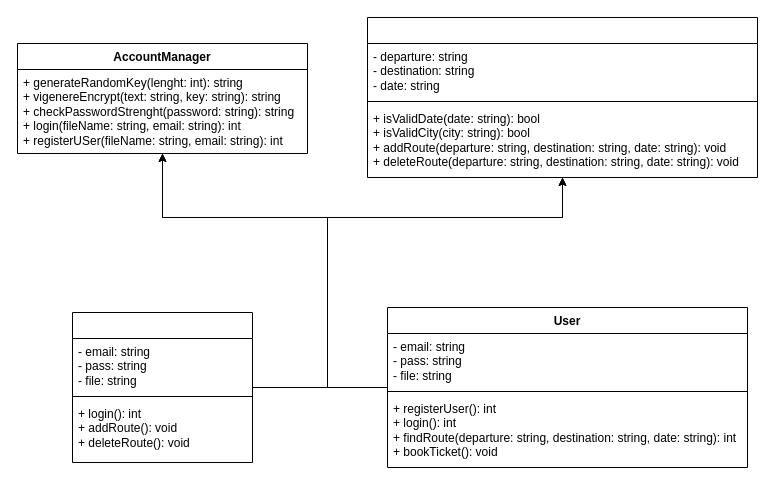
Some shapes in this 775 by 488 pixel diagram are drawn without their labels. Here are the shapes that lost their labels. From the top down, the box of each, then its label:
(366, 16, 758, 178): TrainRoute
(72, 312, 252, 462): Operator
